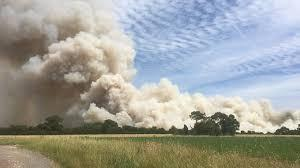smoke: (1, 1, 138, 78), (53, 78, 188, 123), (188, 93, 270, 113), (241, 114, 298, 129)
